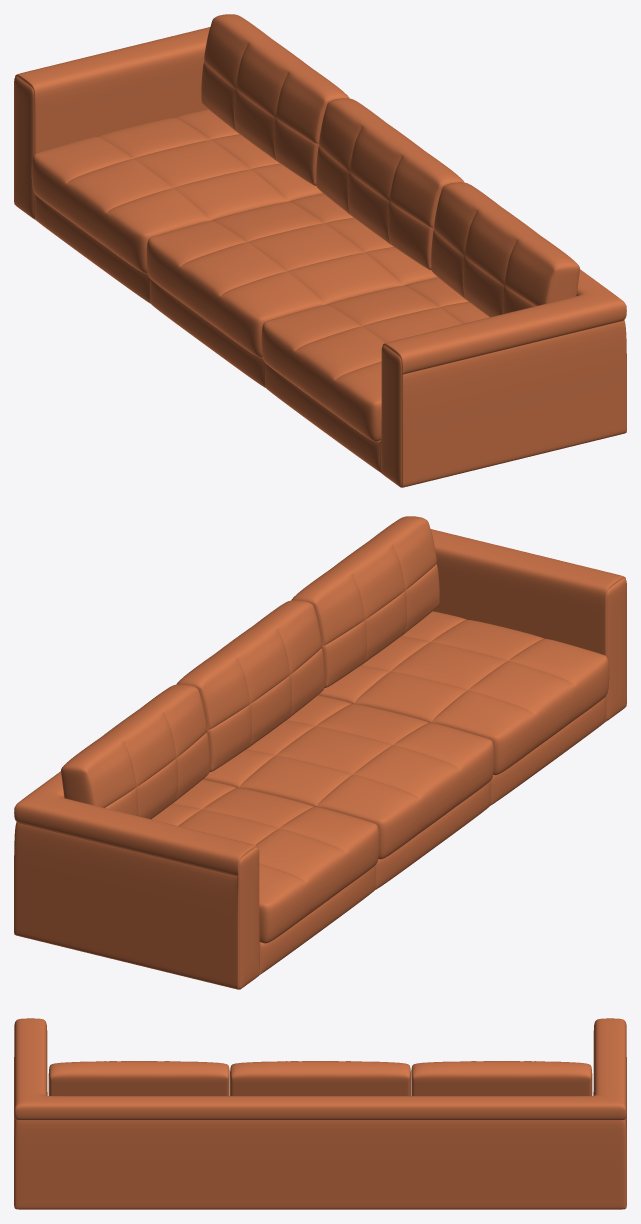
File: homeCouch.FBX
3 renders of one model, top to bottom at view 1: azimuth 30°, elevation 25°; view 2: azimuth 150°, elevation 25°; view 3: azimuth 270°, elevation 25°, orthographic. The views are drawn at different scales.
Parts seen in each view (by area): view 1: Obj_04; view 2: Obj_04; view 3: Obj_04.
Part boxes in pixels (x1,y1,x2,y2): Obj_04: (14,14,626,487); Obj_04: (14,516,626,989); Obj_04: (14,1018,626,1209).
Bounding box in the file's own units: 27.69 × 18.63 × 79.04.
